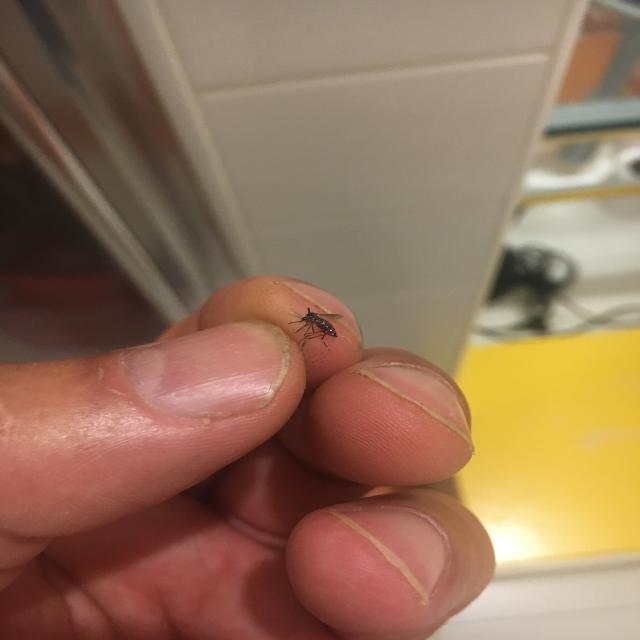albopictus: (284, 303, 348, 352)
